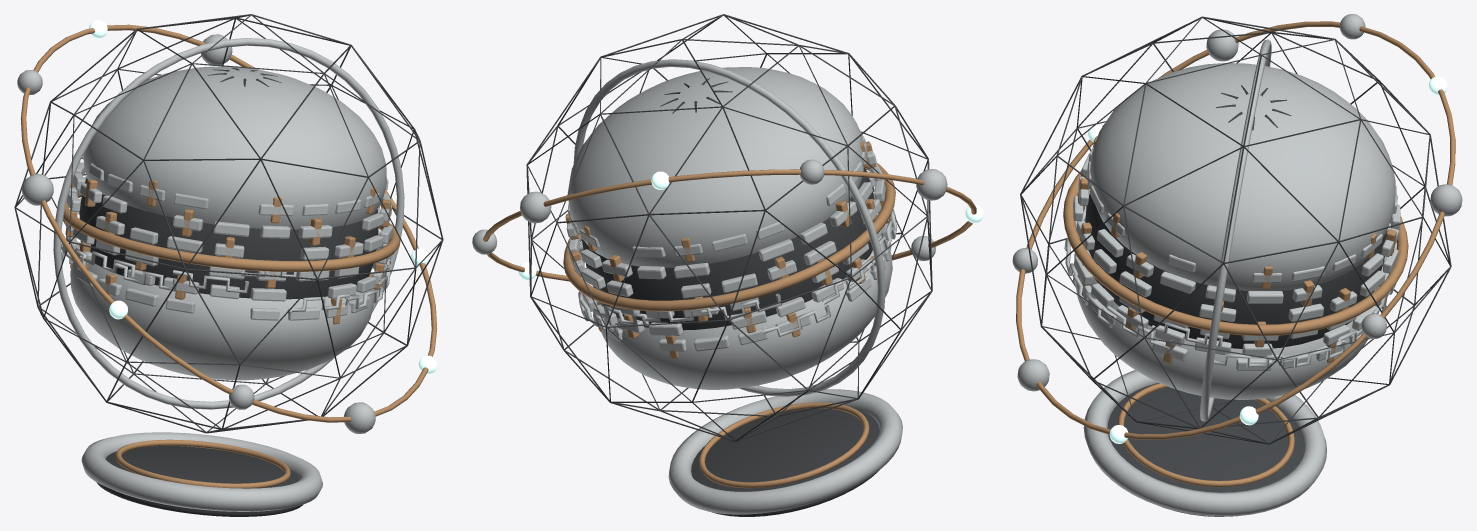
Rendered from orbital-maze.glb.
3 renders of one model, left to right at view 1: azimuth 30°, elevation 25°; view 2: azimuth 150°, elevation 25°; view 3: azimuth 270°, elevation 25°, orthographic.
Parts seen in each view (by area): view 1: Maze_TopShell, Maze_BottomShell, Maze_Outer_Cage, Maze_Core, Maze_PedestalOuter, Maze_Polar_Ring, Maze_PedestalBase, Maze_OrbitRail, Maze_Equator, Maze_PedestalInner, Maze_Satellite_05, Maze_Satellite_08 (+3 smaller); view 2: Maze_TopShell, Maze_Outer_Cage, Maze_BottomShell, Maze_PedestalBase, Maze_PedestalOuter, Maze_Core, Maze_Polar_Ring, Maze_Equator, Maze_OrbitRail, Maze_PedestalInner, Maze_Satellite_02, Maze_Satellite_05; view 3: Maze_TopShell, Maze_Outer_Cage, Maze_PedestalBase, Maze_PedestalOuter, Maze_BottomShell, Maze_Core, Maze_OrbitRail, Maze_Equator, Maze_Polar_Ring, Maze_PedestalInner, Maze_Satellite_02, Maze_Satellite_08 (+3 smaller).
Boxes of the visible parts, <box> form: Maze_TopShell: <box>83,66,386,229</box>; Maze_BottomShell: <box>70,262,373,380</box>; Maze_Outer_Cage: <box>14,14,443,433</box>; Maze_Core: <box>79,177,378,299</box>; Maze_PedestalOuter: <box>81,432,322,511</box>; Maze_Polar_Ring: <box>53,38,404,409</box>; Maze_PedestalBase: <box>96,446,303,516</box>; Maze_OrbitRail: <box>20,24,437,422</box>; Maze_Equator: <box>63,191,400,271</box>; Maze_PedestalInner: <box>115,439,290,488</box>; Maze_Satellite_05: <box>22,174,53,205</box>; Maze_Satellite_08: <box>344,402,375,433</box>; Maze_TopShell: <box>567,67,863,267</box>; Maze_Outer_Cage: <box>526,14,932,441</box>; Maze_BottomShell: <box>597,235,892,389</box>; Maze_PedestalBase: <box>691,408,879,516</box>; Maze_PedestalOuter: <box>668,389,902,514</box>; Maze_Core: <box>582,168,874,330</box>; Maze_Polar_Ring: <box>573,59,885,396</box>; Maze_Equator: <box>563,163,895,311</box>; Maze_OrbitRail: <box>483,169,976,281</box>; Maze_PedestalInner: <box>699,402,869,488</box>; Maze_Satellite_02: <box>520,191,551,223</box>; Maze_Satellite_05: <box>916,169,947,200</box>; Maze_TopShell: <box>1090,63,1395,290</box>; Maze_Outer_Cage: <box>1020,16,1451,444</box>; Maze_PedestalBase: <box>1107,383,1303,516</box>; Maze_PedestalOuter: <box>1083,370,1326,516</box>; Maze_BottomShell: <box>1075,276,1379,399</box>; Maze_Core: <box>1085,191,1386,348</box>; Maze_OrbitRail: <box>1016,21,1455,439</box>; Maze_Equator: <box>1063,170,1408,335</box>; Maze_Polar_Ring: <box>1200,39,1271,421</box>; Maze_PedestalInner: <box>1118,383,1294,487</box>; Maze_Satellite_02: <box>1430,184,1462,216</box>; Maze_Satellite_08: <box>1017,359,1049,391</box>.
Bounding box in the file's own units: 3.79 × 3.96 × 3.51.
